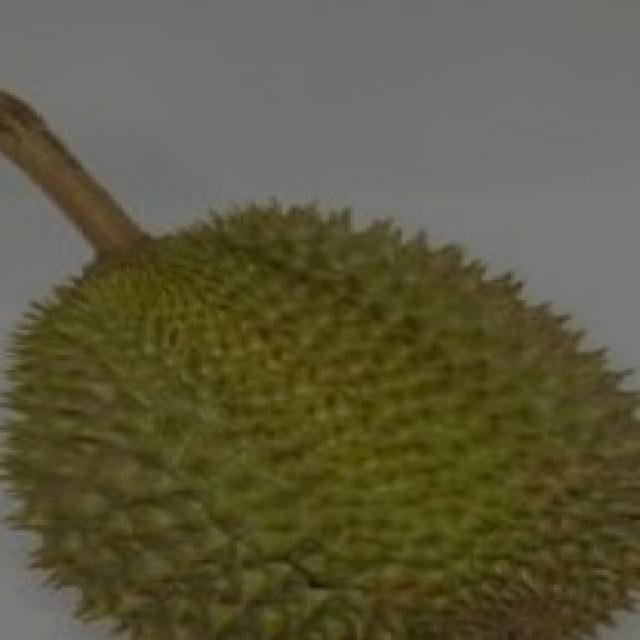fruit: (261, 210, 637, 638), (0, 212, 345, 640)
